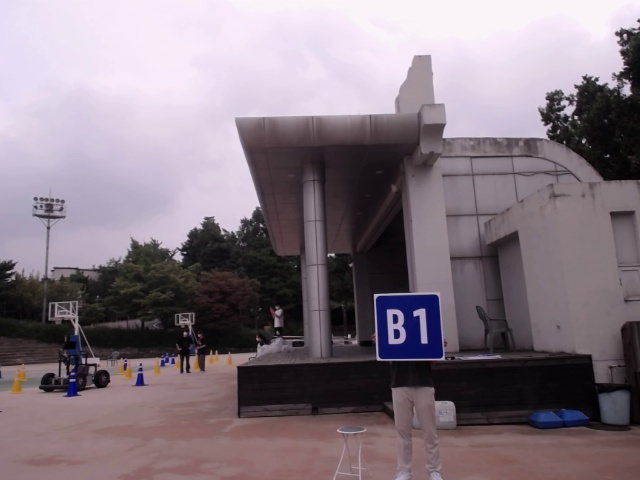delivery_b1: (375, 294, 445, 360)
